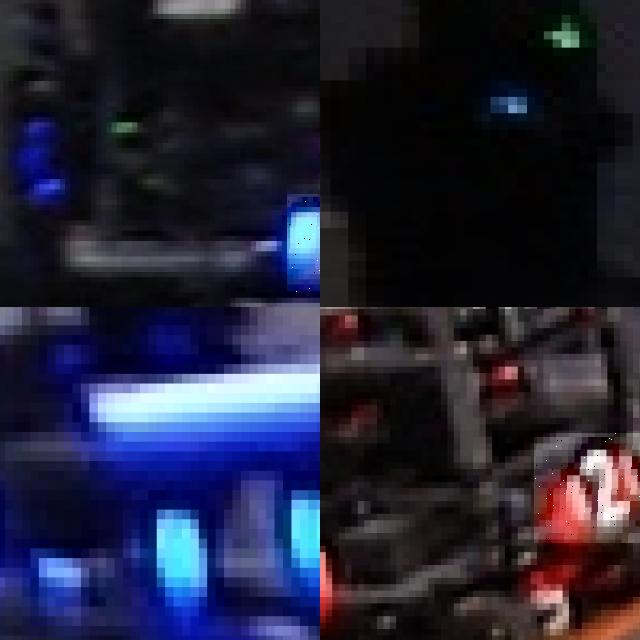B2: (286, 194, 320, 292)
B4: (139, 442, 320, 626)
R2: (534, 433, 640, 542)
